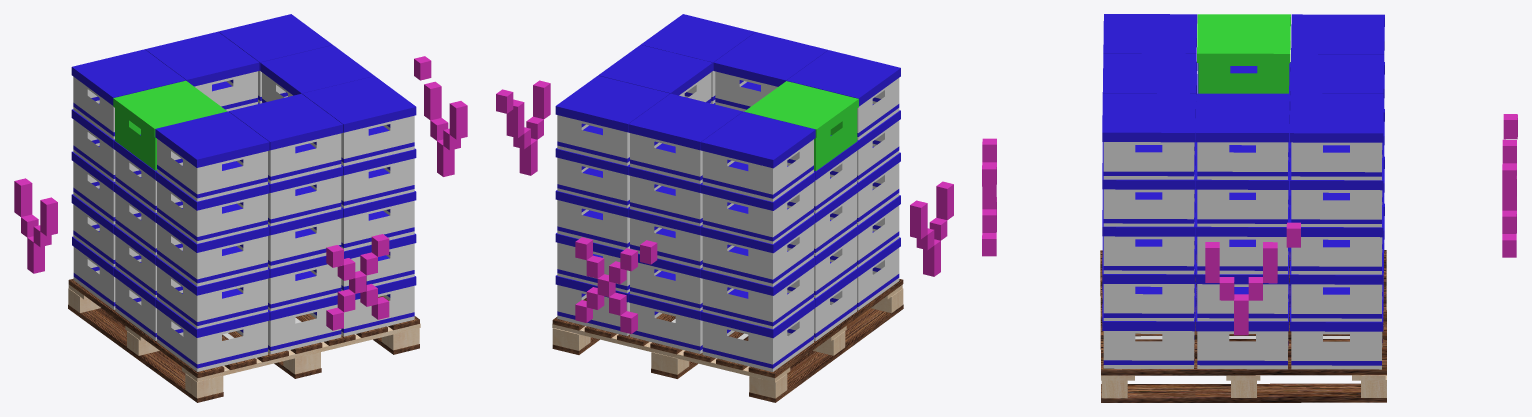
The model's file is caja125.gltf.
3 renders of one model, left to right at view 1: azimuth 30°, elevation 25°; view 2: azimuth 150°, elevation 25°; view 3: azimuth 270°, elevation 25°, orthographic. The views are drawn at different scales.
Parts seen in each view (by area): view 1: CajaVerde, Cube.031_1, Cube.026_1, Cube.033_1, Cube.032_1, Cube.029_1, Cube.027_1, Cube.004_0, Cube.020_0, Cube.031_0, Cube.012_0, Cube.039_0 (+53 smaller); view 2: CajaVerde, Cube.029_1, Cube.028_1, Cube.032_1, Cube.033_1, Cube.031_1, Cube.027_1, Cube.007_0, Cube.022_0, Cube.029_0, Cube.037_0, Cube.014_0 (+53 smaller); view 3: CajaVerde, Cube.027_1, Cube.026_1, Cube.028_1, Cube055, Cube.033_1, Cube.029_1, Cube.032_1, Cube.031_1, Cube.003_0, Cube.001_0, Cube.025_0 (+31 smaller).
Boxes of the visible parts, bbox=[...] form: CajaVerde: bbox=[113, 80, 227, 170]; Cube.031_1: bbox=[155, 111, 269, 198]; Cube.026_1: bbox=[302, 76, 416, 162]; Cube.033_1: bbox=[229, 93, 342, 180]; Cube.032_1: bbox=[145, 31, 259, 109]; Cube.029_1: bbox=[71, 49, 186, 136]; Cube.027_1: bbox=[260, 45, 374, 102]; Cube.004_0: bbox=[157, 309, 267, 371]; Cube.020_0: bbox=[157, 224, 267, 286]; Cube.031_0: bbox=[157, 139, 267, 201]; Cube.012_0: bbox=[157, 266, 267, 328]; Cube.039_0: bbox=[157, 181, 267, 243]; CajaVerde: bbox=[744, 81, 858, 170]; Cube.029_1: bbox=[701, 111, 815, 198]; Cube.028_1: bbox=[555, 75, 670, 162]; Cube.032_1: bbox=[628, 93, 742, 180]; Cube.033_1: bbox=[713, 32, 827, 109]; Cube.031_1: bbox=[786, 50, 900, 136]; Cube.027_1: bbox=[598, 44, 712, 103]; Cube.007_0: bbox=[702, 309, 813, 371]; Cube.022_0: bbox=[702, 224, 813, 286]; Cube.029_0: bbox=[702, 139, 813, 201]; Cube.037_0: bbox=[702, 182, 813, 244]; Cube.014_0: bbox=[702, 267, 813, 328]; CajaVerde: bbox=[1197, 14, 1290, 93]; Cube.027_1: bbox=[1196, 93, 1289, 176]; Cube.026_1: bbox=[1102, 93, 1195, 176]; Cube.028_1: bbox=[1290, 93, 1383, 176]; Cube055: bbox=[1101, 383, 1386, 402]; Cube.033_1: bbox=[1102, 53, 1196, 94]; Cube.029_1: bbox=[1291, 14, 1384, 54]; Cube.032_1: bbox=[1290, 54, 1384, 97]; Cube.031_1: bbox=[1103, 14, 1197, 53]; Cube.003_0: bbox=[1291, 331, 1382, 369]; Cube.001_0: bbox=[1103, 331, 1194, 368]; Cube.025_0: bbox=[1103, 236, 1194, 274].
Bounding box in the file's own units: 4.23 × 2.33 × 4.22.
82 materials, 2 textured.
